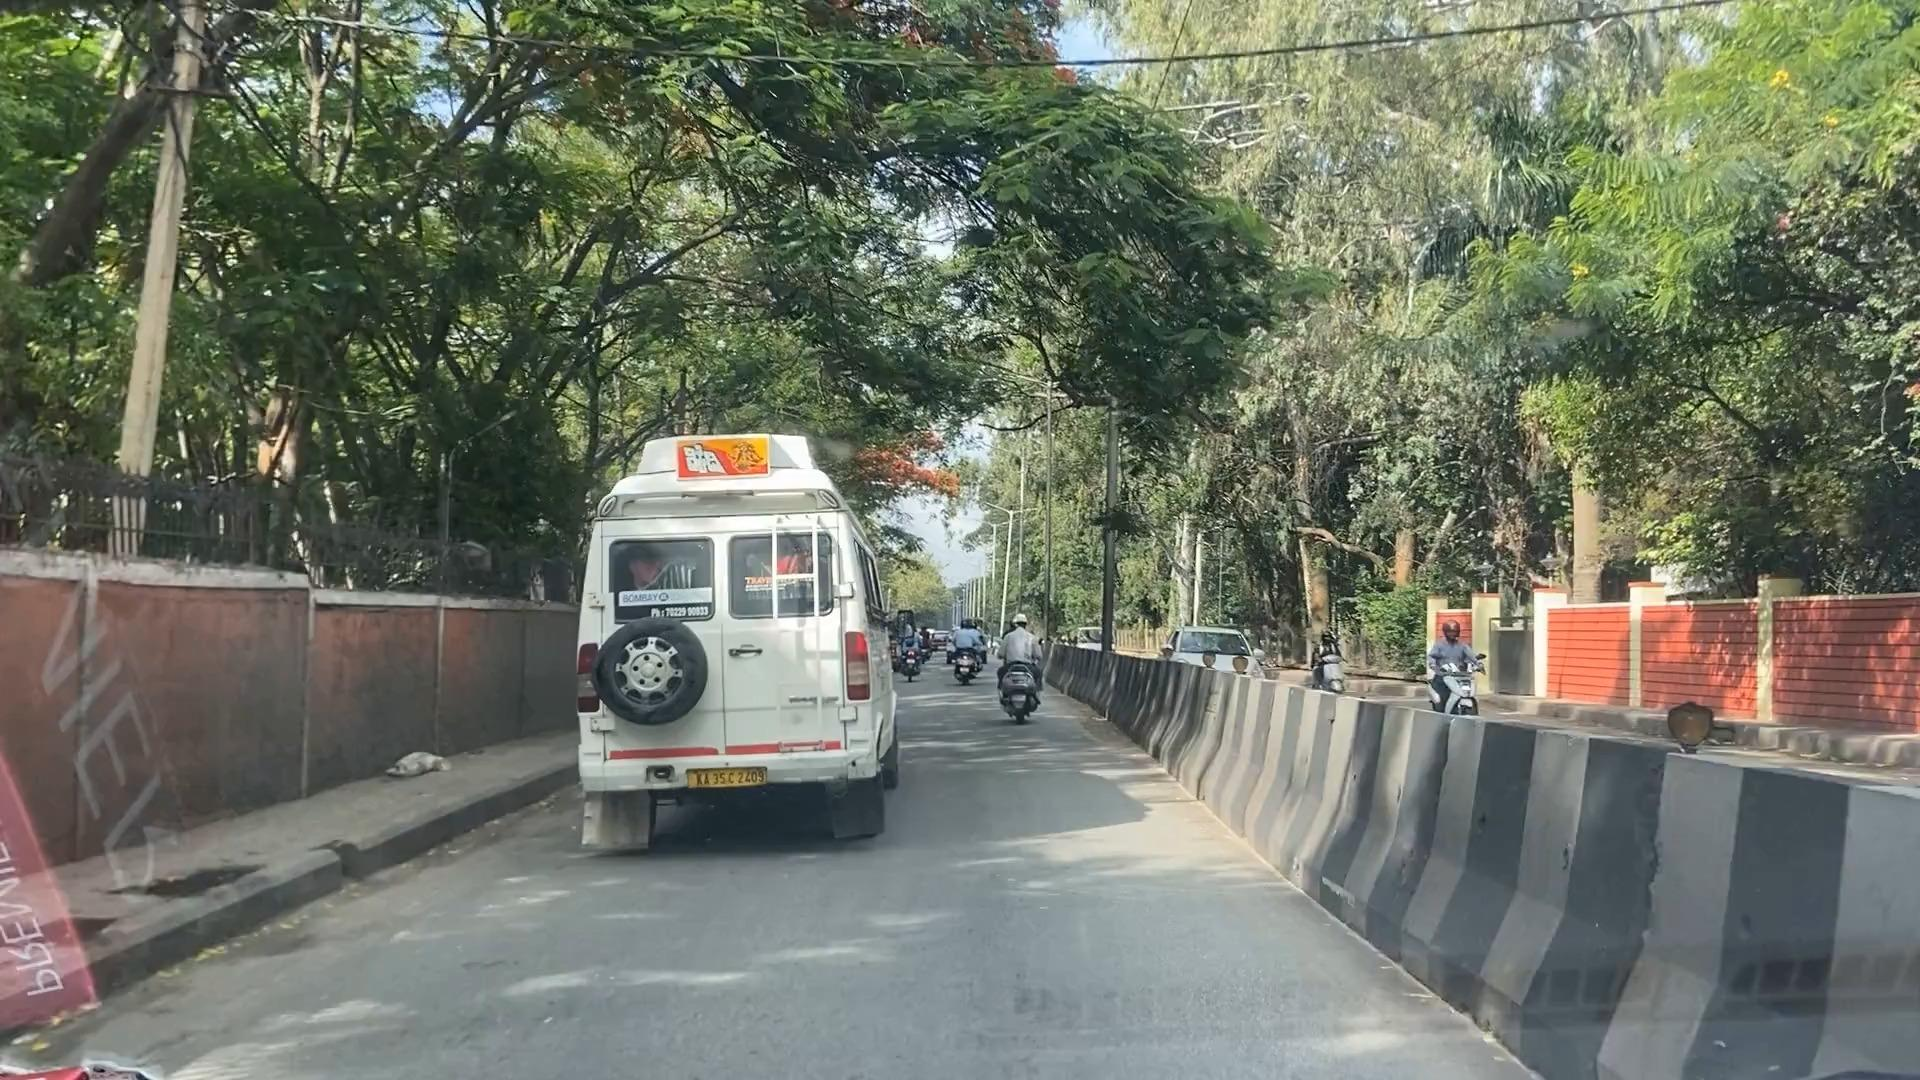HMV: (568, 473, 891, 855)
LMV: (1001, 600, 1054, 738)
